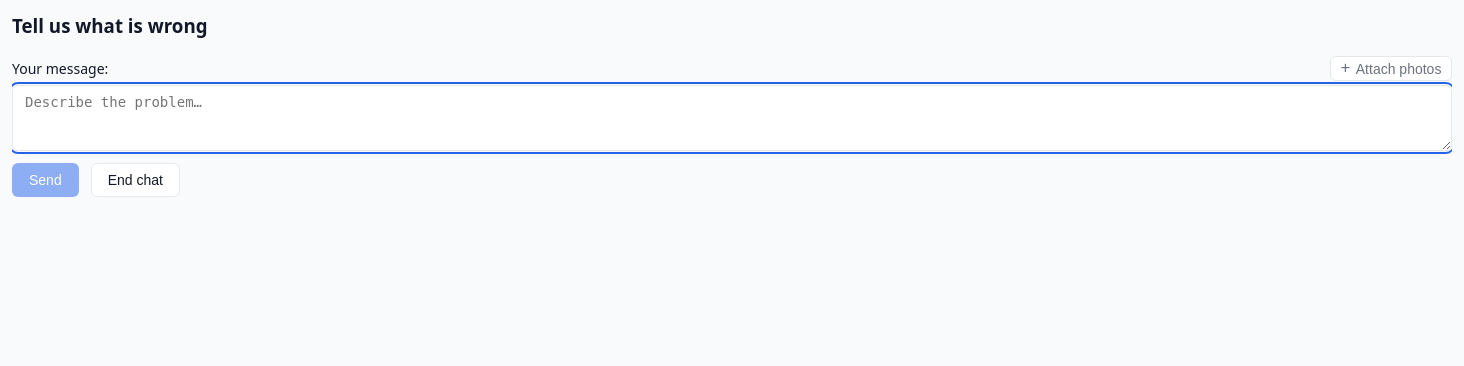
Test: TriageChat › emphasises the question the buttons answer, at the offsets the backend reported
Type "It will not heat." into the text box. click: {"x": 732, "y": 118}
box: [12,85,1452,151]
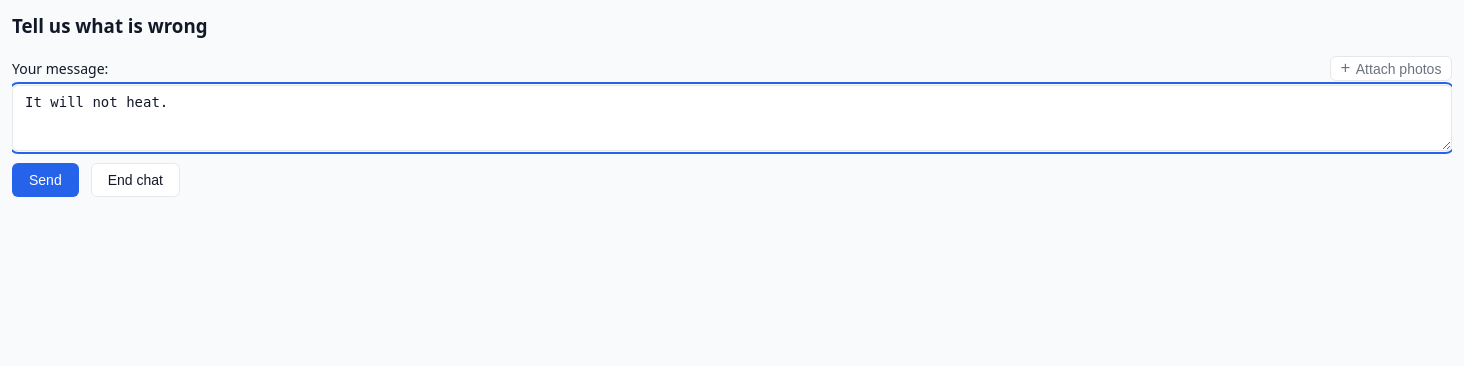
Click the button "Send". click: {"x": 45, "y": 180}
box: [12,163,79,197]
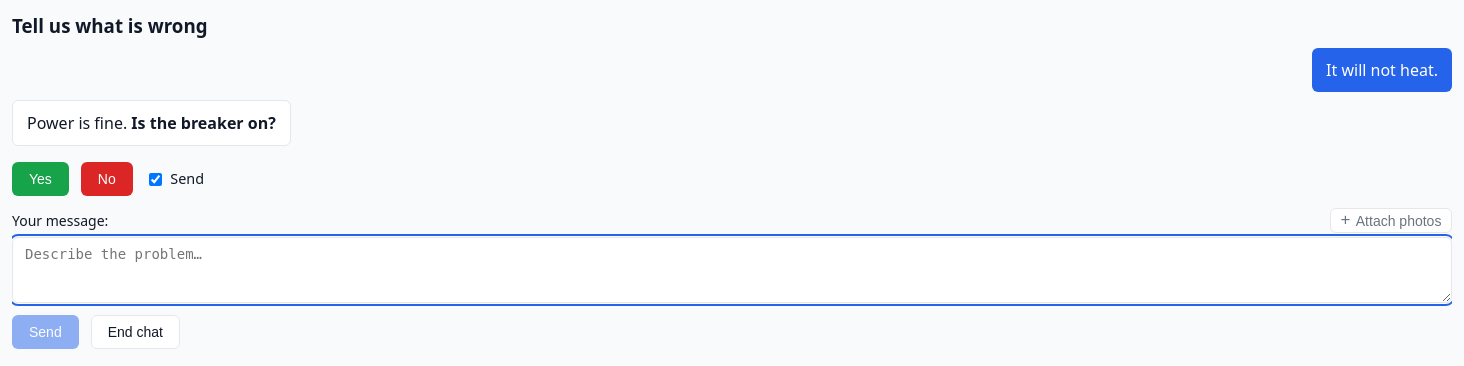
Result: the list item "Power is fine. Is the breaker on?" is shown at [12,100,291,146]
